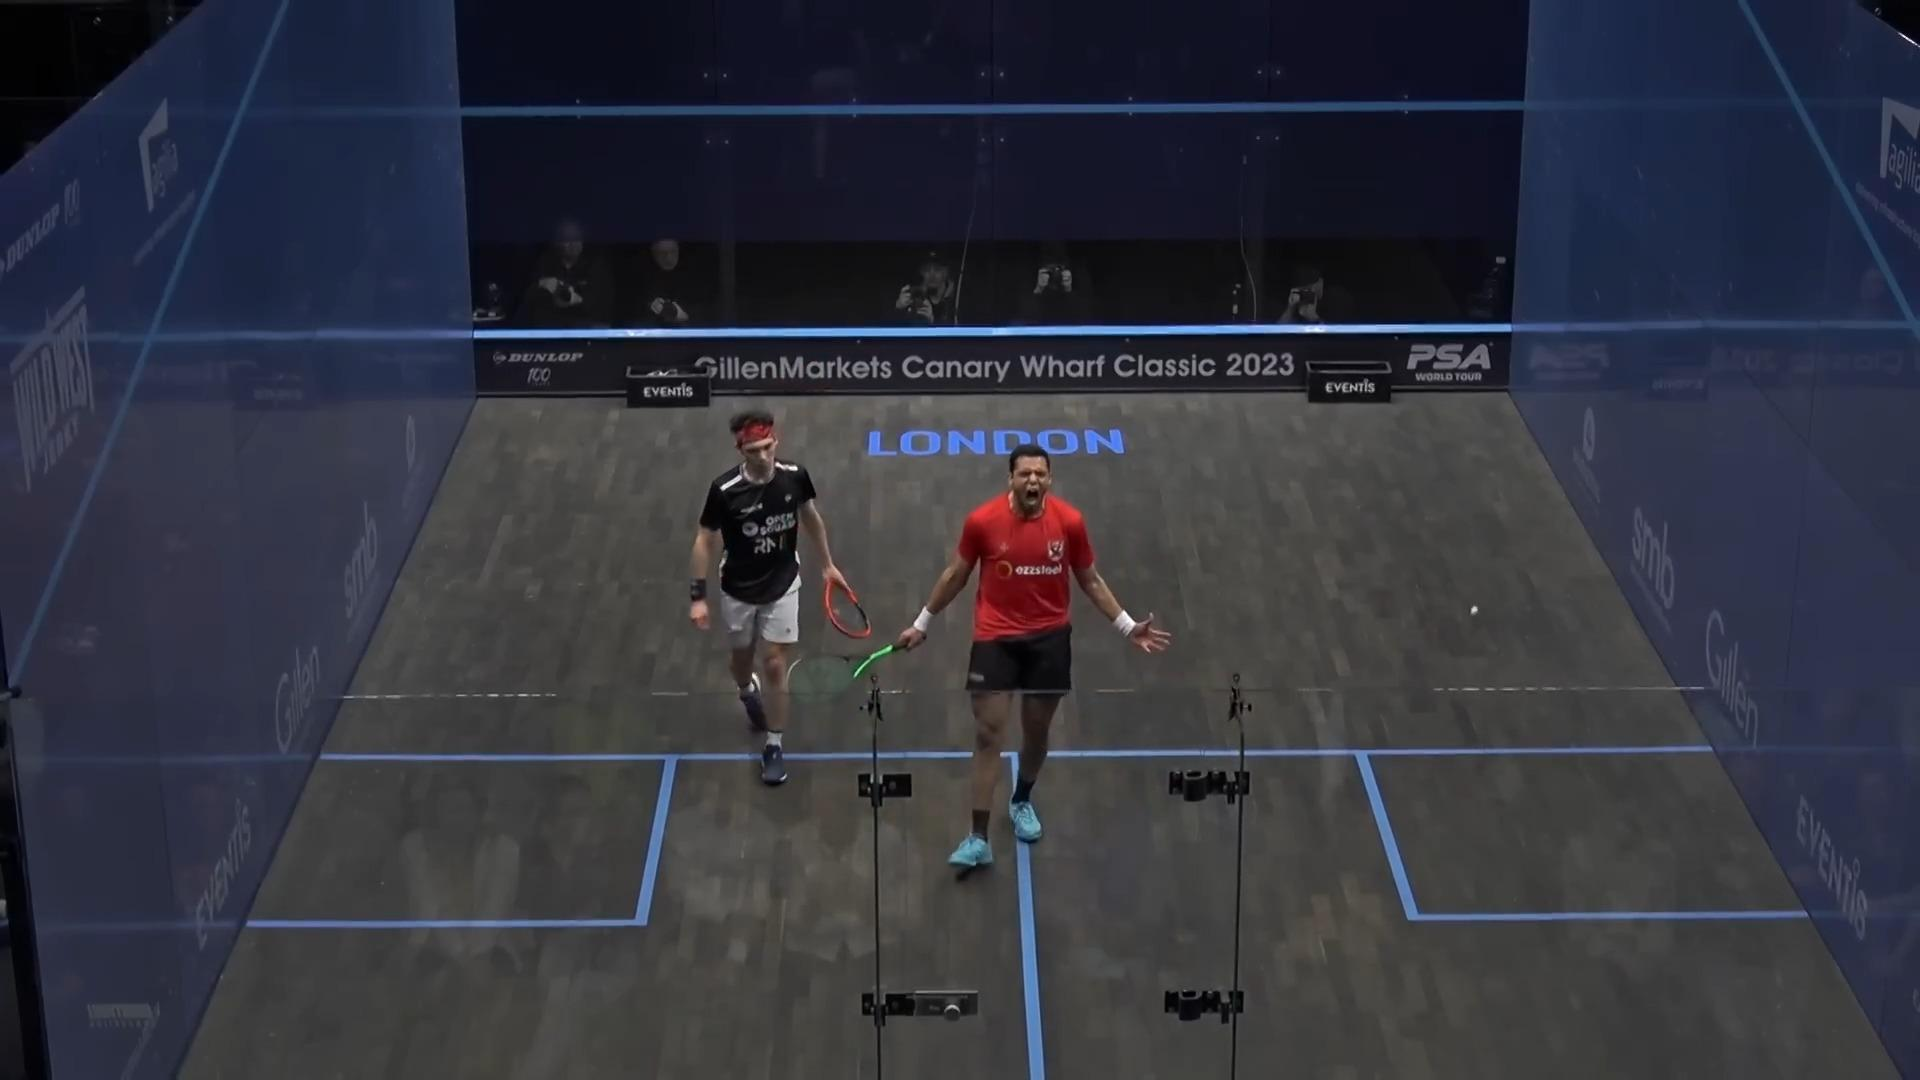Racket: (770, 646, 916, 721), (812, 553, 880, 637)
